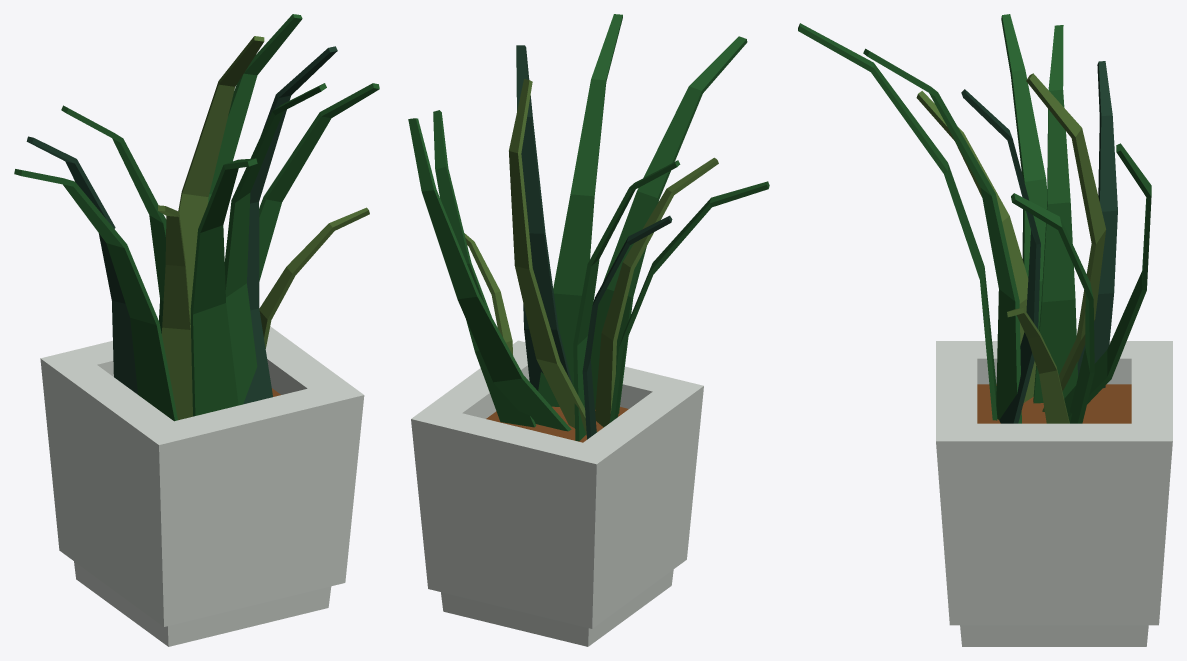
Rendered from Puzzle03_Plant4.glb.
The picture shows the model from 3 angles, left to right: view 1: azimuth 30°, elevation 25°; view 2: azimuth 150°, elevation 25°; view 3: azimuth 270°, elevation 25°; orthographic projection. The views are drawn at different scales.
Parts seen in each view (by area): view 1: Puzzle03_Plant4; view 2: Puzzle03_Plant4; view 3: Puzzle03_Plant4.
Boxes of the visible parts, x1=… form: Puzzle03_Plant4: x1=14, y1=14, x2=379, y2=646; Puzzle03_Plant4: x1=408, y1=14, x2=769, y2=646; Puzzle03_Plant4: x1=798, y1=14, x2=1172, y2=646.
Bounding box in the file's own units: 1.3 × 1.93 × 1.15.
1 material, 1 textured.
